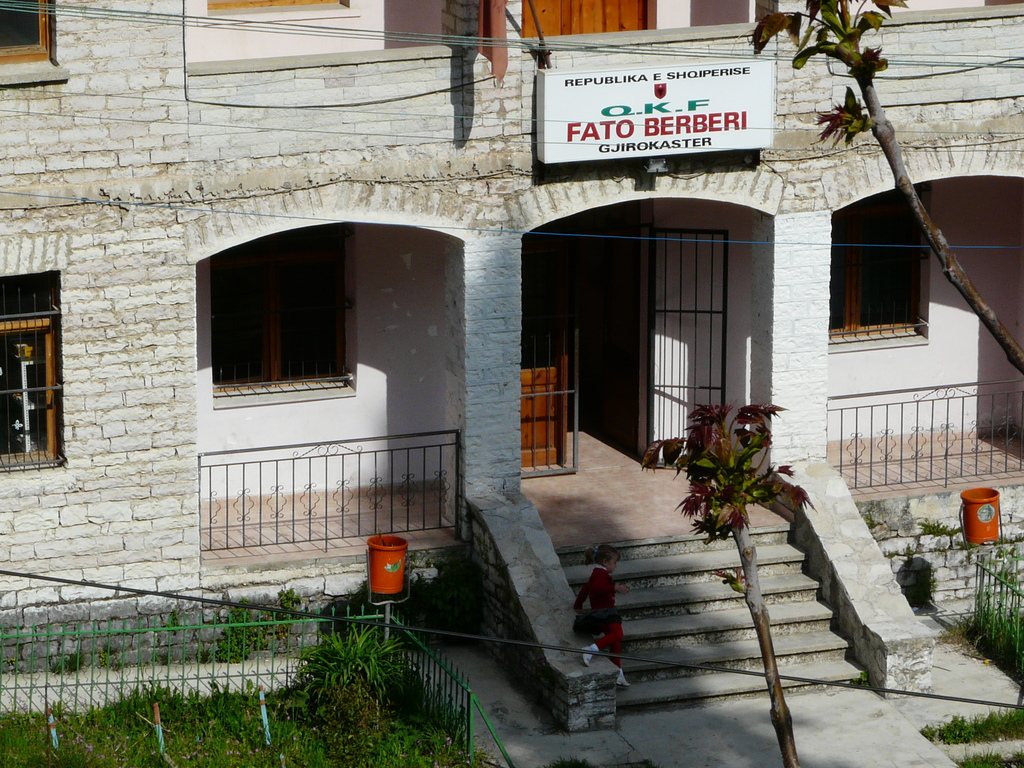Window: (206, 225, 348, 397), (828, 189, 922, 343), (0, 269, 62, 476), (0, 0, 51, 70)
